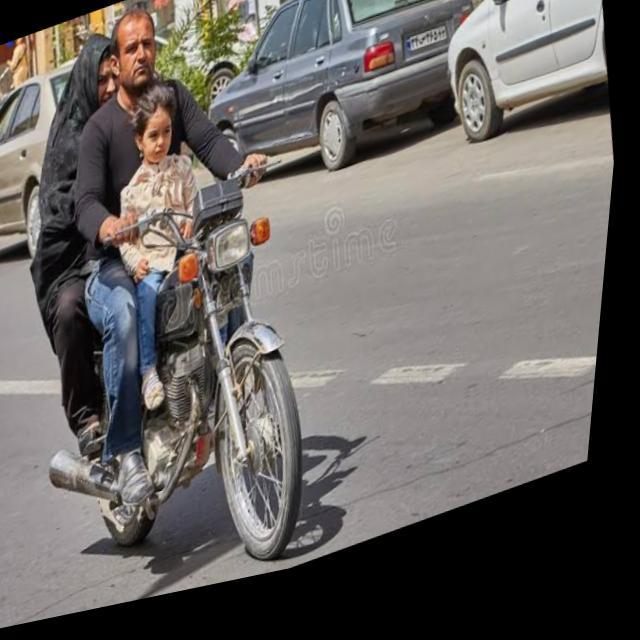Nonhelmet: (109, 7, 159, 97), (128, 81, 179, 168)
